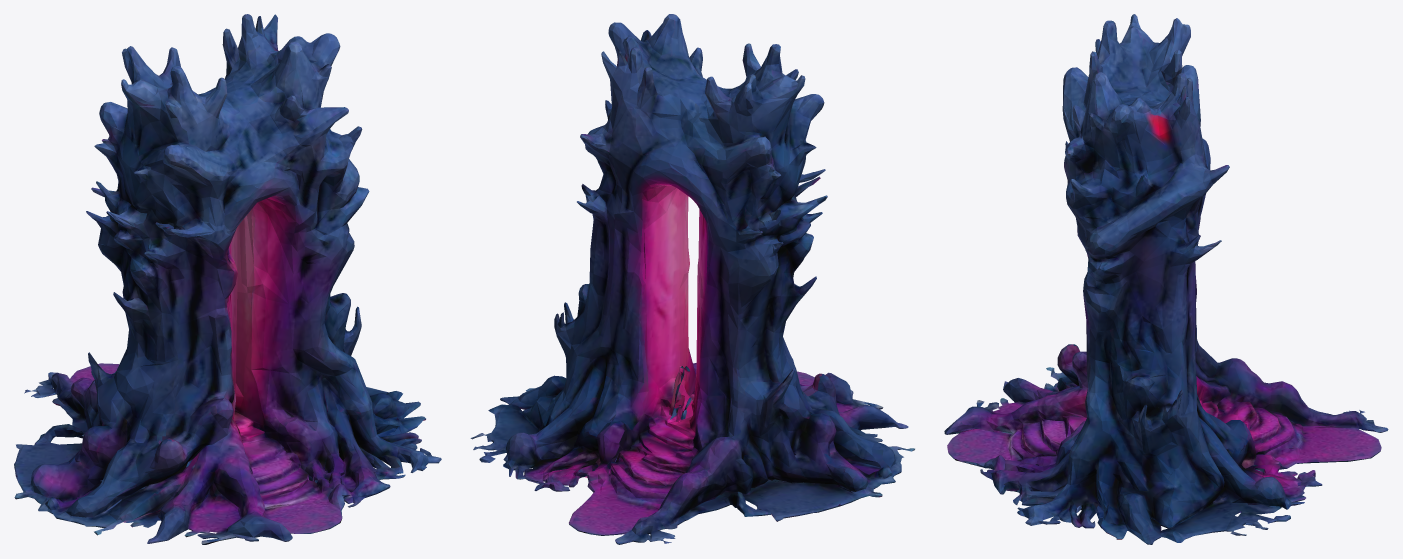
Rendered from root-northeast-generated-2026-04-19T17-10-26-920Z.low.glb.
3 views of the same model, side by side, from view 1: azimuth 30°, elevation 25°; view 2: azimuth 150°, elevation 25°; view 3: azimuth 270°, elevation 25° (orthographic). The views are drawn at different scales.
Parts seen in each view (by area): view 1: temp_mesh.ply; view 2: temp_mesh.ply; view 3: temp_mesh.ply.
Part boxes in pixels (left/top/right/bottom): temp_mesh.ply: left=14, top=14, right=441, bottom=544; temp_mesh.ply: left=470, top=14, right=914, bottom=544; temp_mesh.ply: left=944, top=14, right=1388, bottom=544.
Bounding box in the file's own units: 1.97 × 1.97 × 1.97.
1 material, 1 textured.
